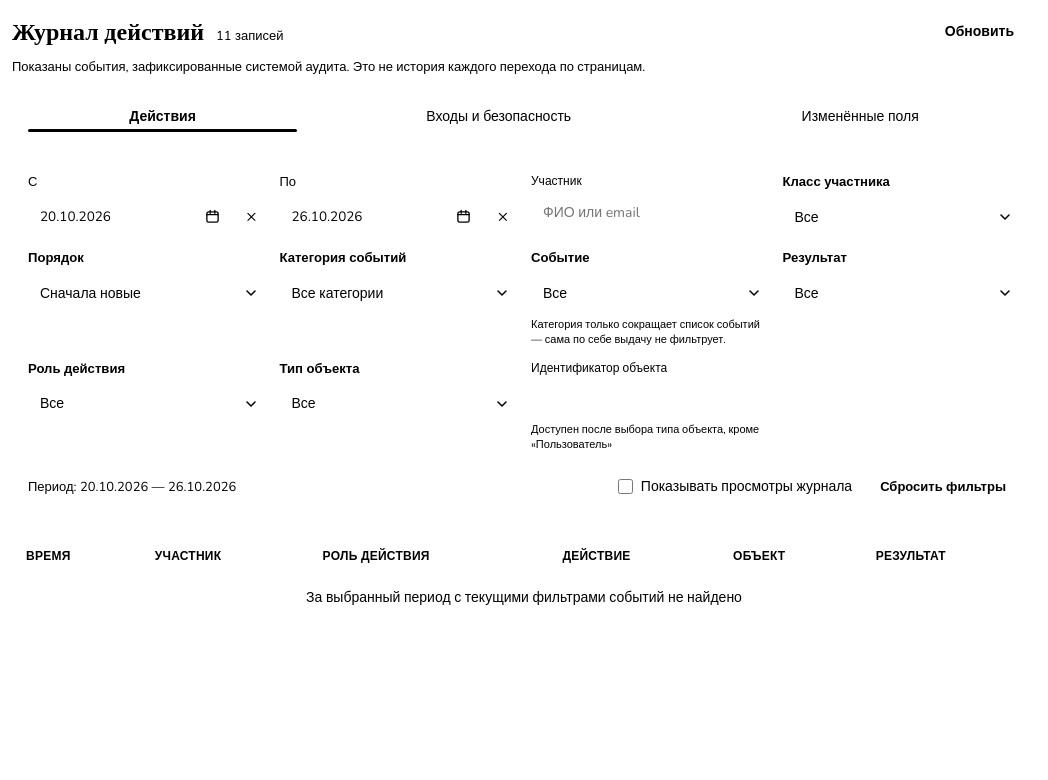
Test: вкладки бьют каждая в свой endpoint › переключение на «Изменённые поля»
Expected: the table is shown, [12,536,1036,619]
Click the tab "Изменённые поля" at point(860, 117), box [688,99,1032,135]
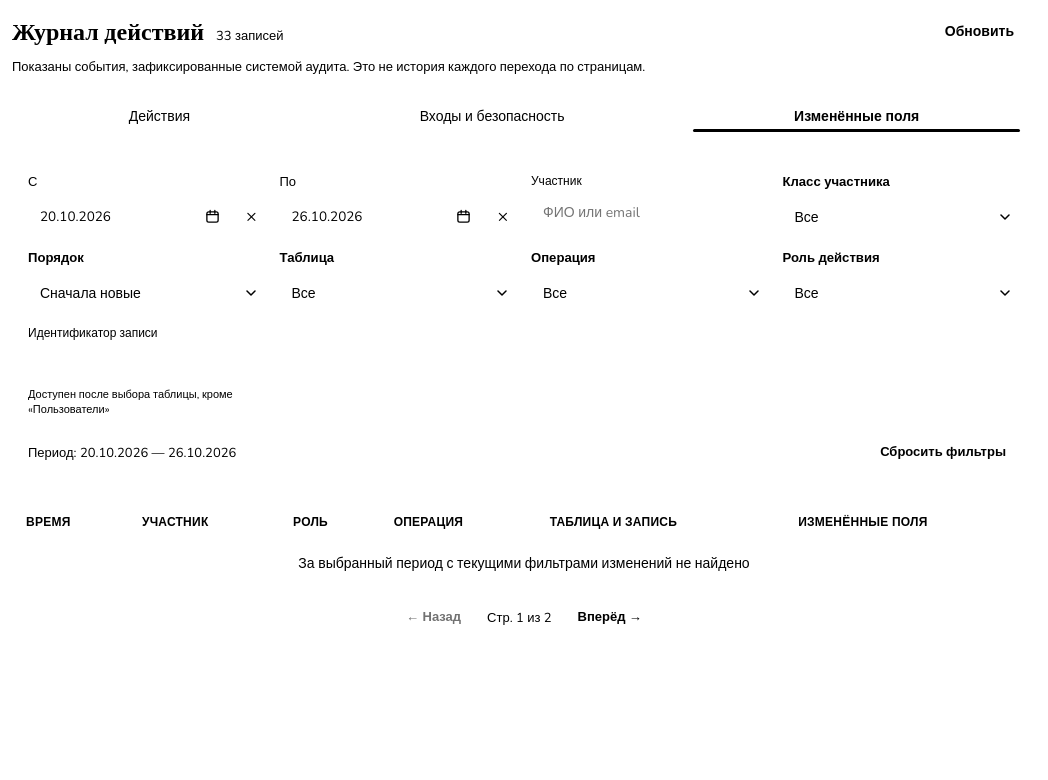
Expected: the text "33 записей" is shown, [216,26,284,44]
